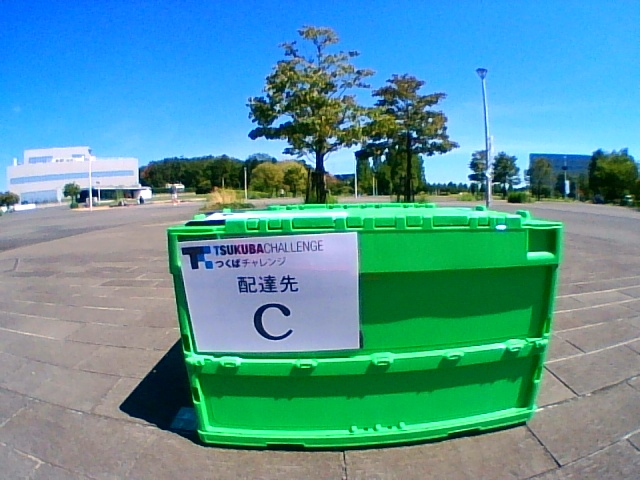green_box: (168, 203, 563, 448)
tag_c: (200, 242, 354, 350)
